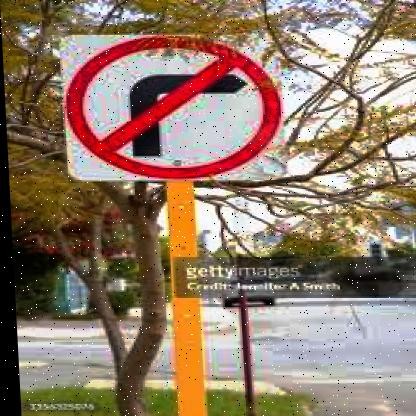No right turn: (66, 36, 285, 178)
